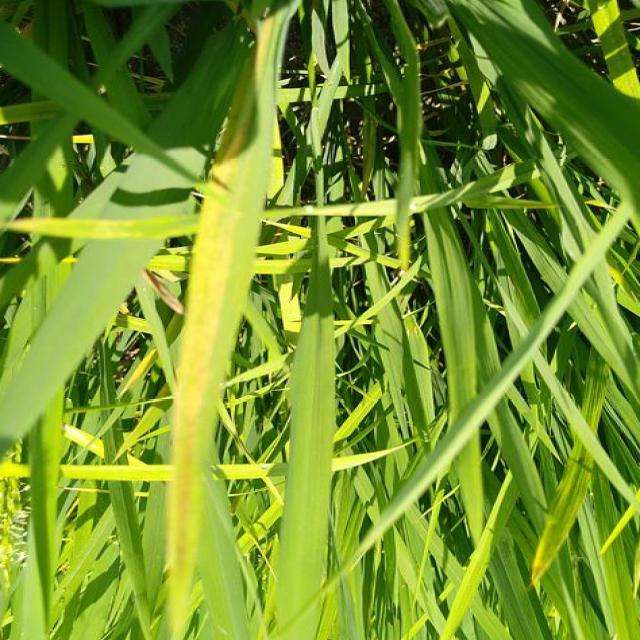Leaf Streak: (168, 51, 254, 640), (528, 468, 585, 591), (7, 213, 201, 239)
